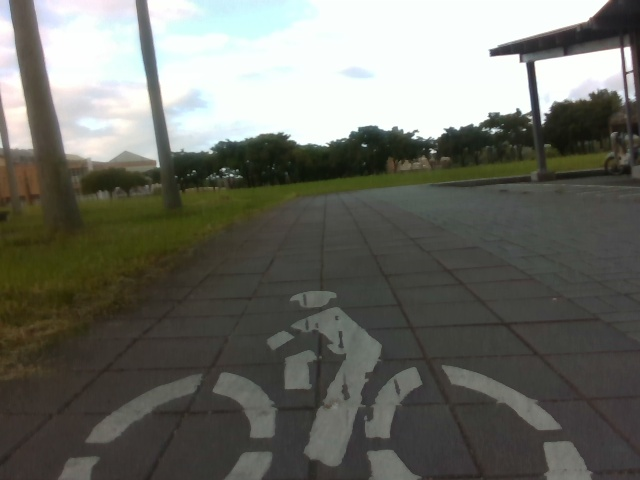grass: (0, 150, 608, 375), (0, 89, 622, 190)
road: (0, 188, 639, 479)
sidewalk: (439, 166, 639, 288)
